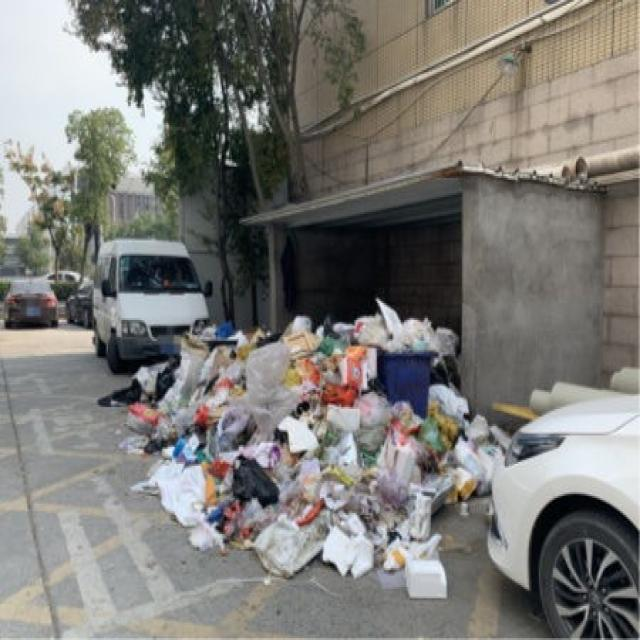garbage: (95, 296, 509, 598)
overflow: (376, 296, 436, 418)
